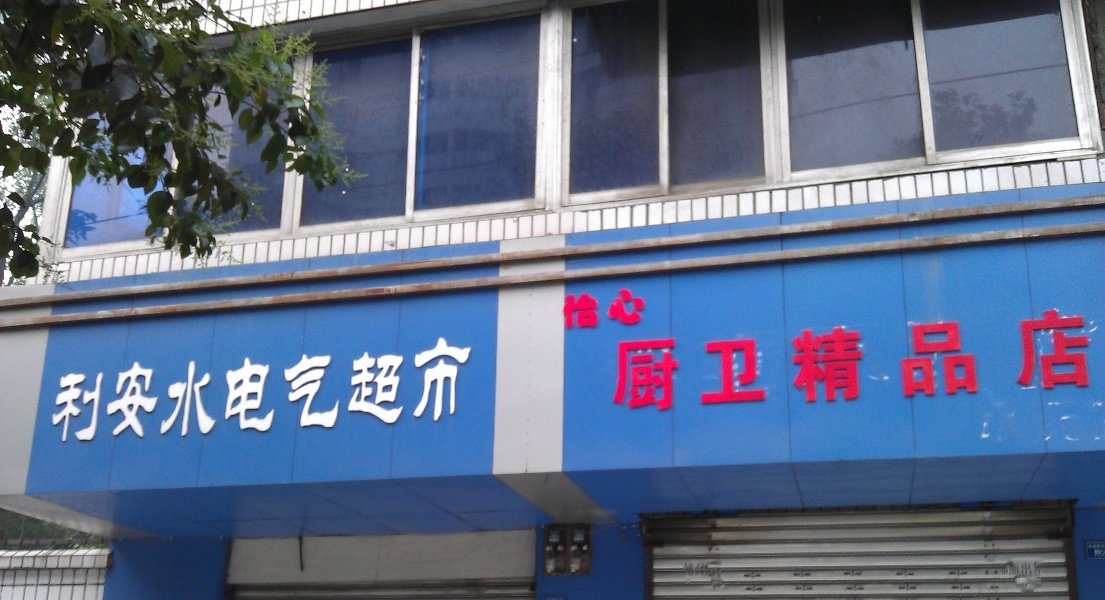text: (65, 332, 80, 445), (81, 332, 96, 445), (97, 332, 112, 445), (113, 332, 128, 445), (129, 332, 144, 445), (145, 332, 160, 445), (161, 332, 176, 445), (177, 332, 192, 445), (193, 332, 208, 445), (209, 332, 224, 445), (225, 332, 240, 445), (241, 332, 256, 445), (257, 332, 272, 445), (273, 332, 288, 445), (289, 332, 304, 445), (305, 332, 320, 445), (321, 332, 336, 445), (337, 332, 352, 445), (353, 332, 368, 445), (369, 332, 384, 445), (385, 332, 400, 445), (401, 332, 416, 445), (417, 332, 432, 445), (433, 332, 448, 445), (449, 332, 464, 445), (609, 307, 624, 415), (625, 307, 640, 415), (641, 307, 656, 415), (657, 307, 672, 415), (673, 307, 688, 415), (689, 307, 704, 415), (705, 307, 720, 415), (721, 307, 736, 415), (737, 307, 752, 415), (753, 307, 768, 415), (769, 307, 784, 415), (785, 307, 800, 415), (801, 307, 816, 415), (817, 307, 832, 415), (833, 307, 848, 415), (849, 307, 864, 415), (865, 307, 880, 415), (881, 307, 896, 415), (897, 307, 912, 415), (913, 307, 928, 415), (929, 307, 944, 415), (945, 307, 960, 415), (961, 307, 976, 415), (977, 307, 992, 415), (993, 307, 1008, 415), (1009, 307, 1024, 415), (1025, 307, 1040, 415), (1041, 307, 1056, 415), (1057, 307, 1072, 415), (1073, 307, 1088, 415), (465, 332, 473, 445), (57, 332, 64, 445), (577, 288, 592, 330), (593, 288, 608, 330), (609, 288, 624, 330), (625, 288, 640, 330), (562, 288, 576, 330), (1089, 307, 1092, 415), (641, 288, 648, 330)
